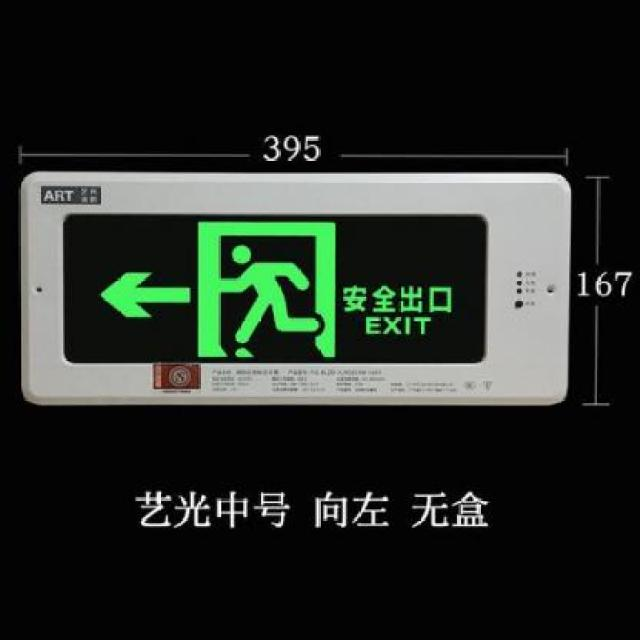exit_sign: (55, 211, 494, 369)
